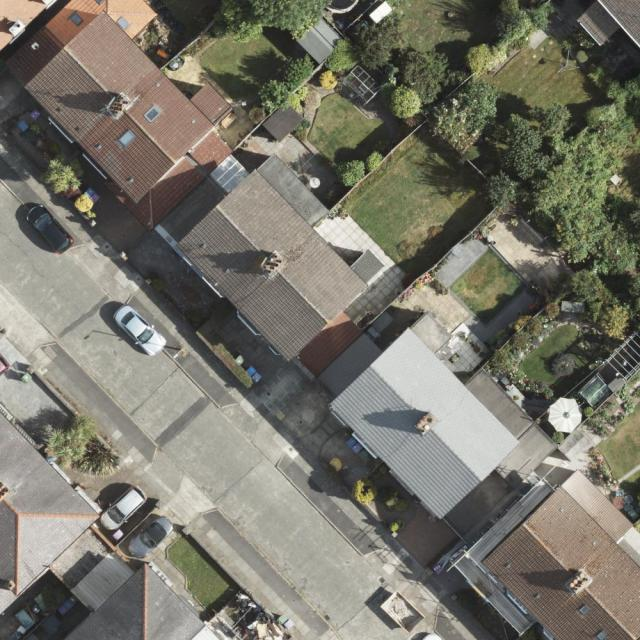roof: (3, 0, 640, 640), (0, 409, 226, 640), (577, 0, 640, 48), (0, 0, 54, 50)
skylight: (209, 152, 250, 195), (118, 127, 138, 149), (145, 105, 161, 124), (115, 17, 131, 32), (70, 10, 84, 25), (578, 606, 592, 616), (596, 629, 607, 640)
